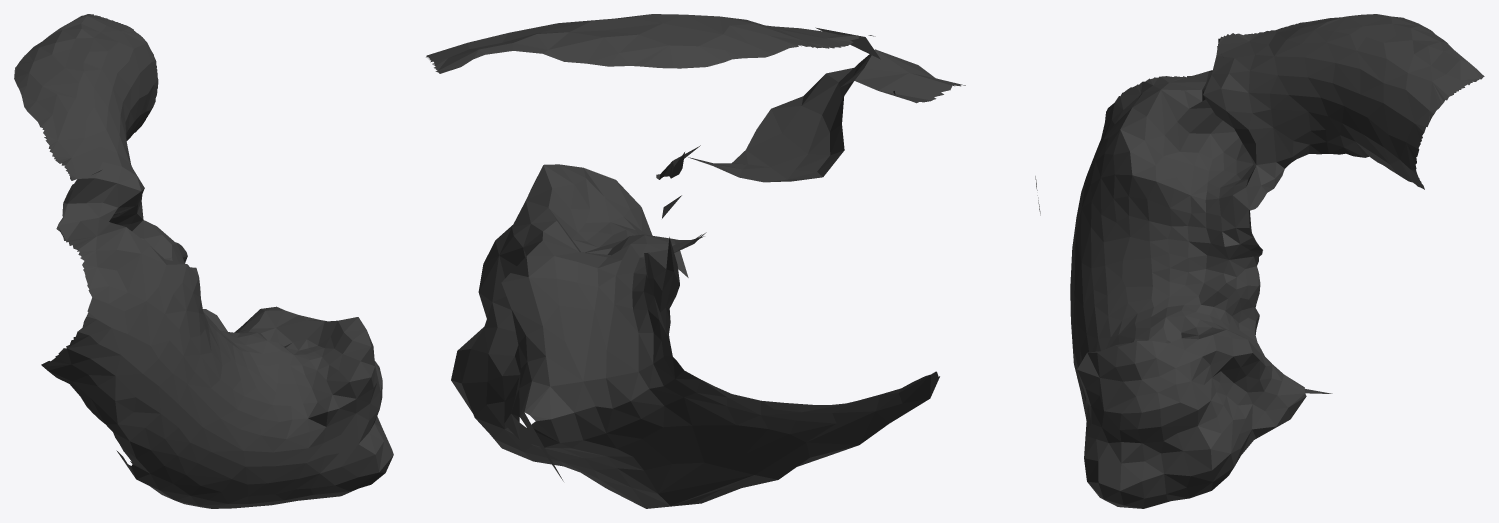
Rendered from A_aortic_arch_A_aortic_arch.glb.
3 renders of one model, left to right at view 1: azimuth 30°, elevation 25°; view 2: azimuth 150°, elevation 25°; view 3: azimuth 270°, elevation 25°, orthographic. The views are drawn at different scales.
Parts seen in each view (by area): view 1: A_aortic_arch_A_aortic_arch; view 2: A_aortic_arch_A_aortic_arch; view 3: A_aortic_arch_A_aortic_arch.
Boxes of the visible parts, x1=… form: A_aortic_arch_A_aortic_arch: x1=14, y1=14, x2=393, y2=508; A_aortic_arch_A_aortic_arch: x1=426, y1=14, x2=1040, y2=508; A_aortic_arch_A_aortic_arch: x1=1070, y1=14, x2=1484, y2=508.
Bounding box in the file's own units: 0.0273 × 0.0307 × 0.0279.
Materials: 1 (1 with a texture image).
